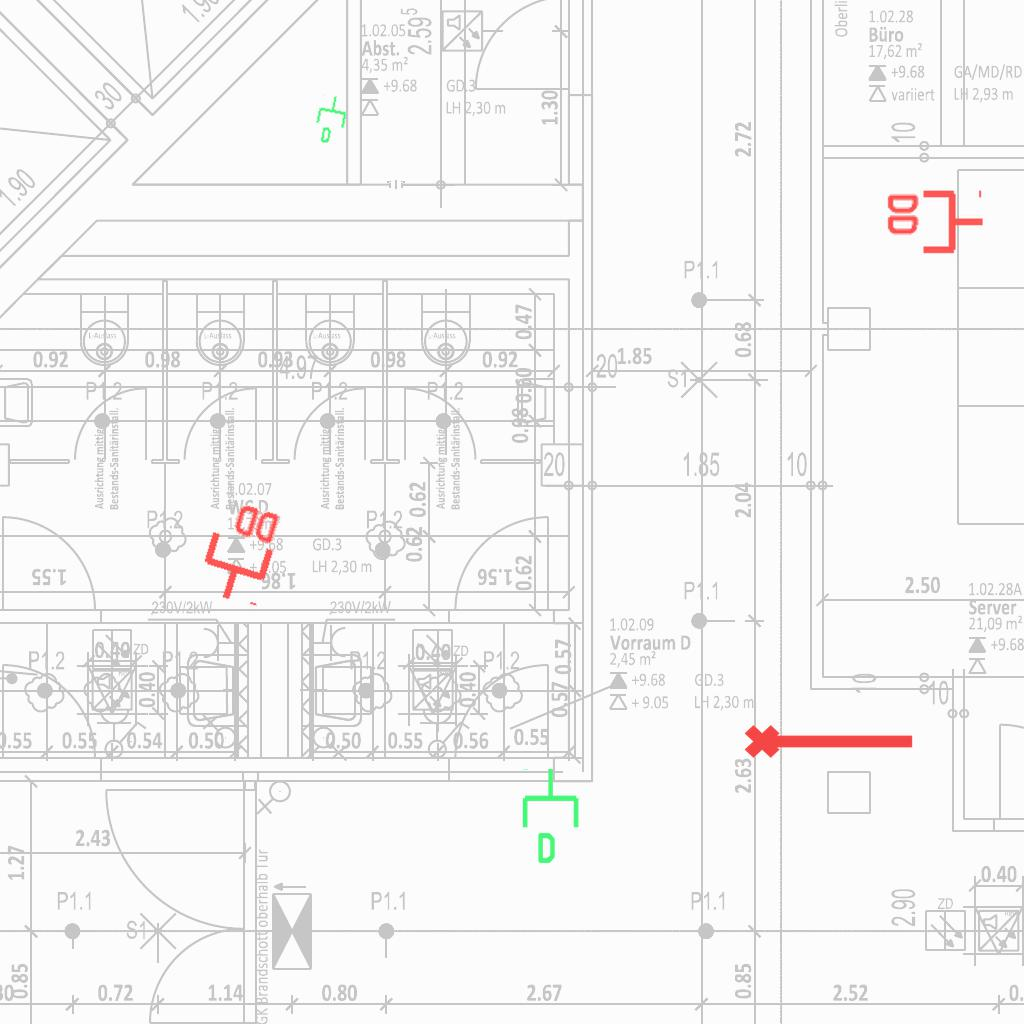ASR_Ansaugoeffnung: (742, 716, 918, 762)
Datenanschluss_einfach: (518, 766, 587, 866), (310, 92, 354, 148)
Datenanschluss_zweifach: (190, 492, 287, 611), (883, 189, 986, 258)
